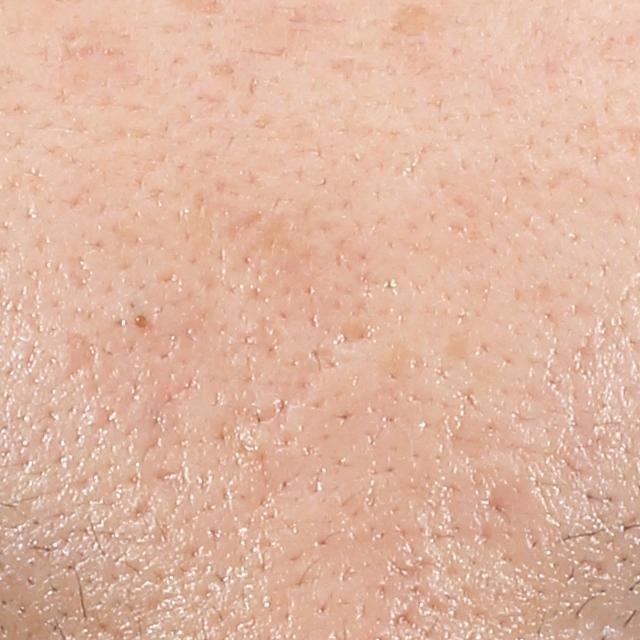atrophic_scar: (64, 331, 98, 379), (339, 322, 381, 345)
comedo: (130, 312, 152, 333)
